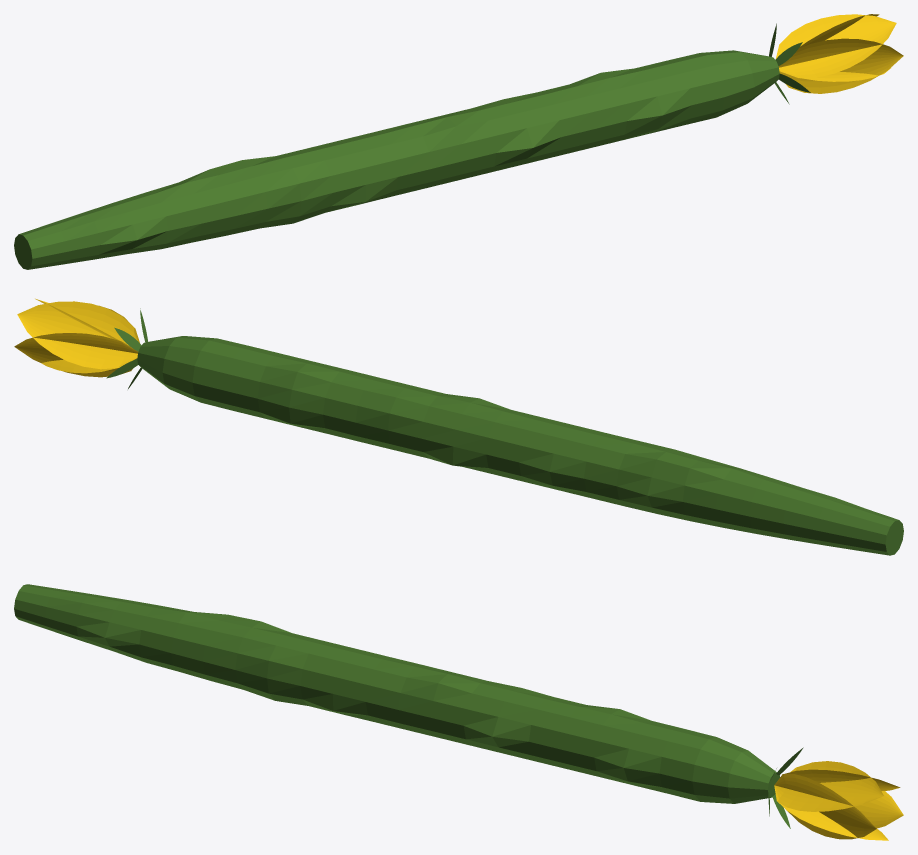
File: flower_closed_01.obj
3 renders of one model, top to bottom at view 1: azimuth 30°, elevation 25°; view 2: azimuth 150°, elevation 25°; view 3: azimuth 330°, elevation 25°, orthographic.
Bounding box in the file's own units: 0.7807 × 0.0633 × 0.0659.
Materials: 1 (1 with a texture image).
